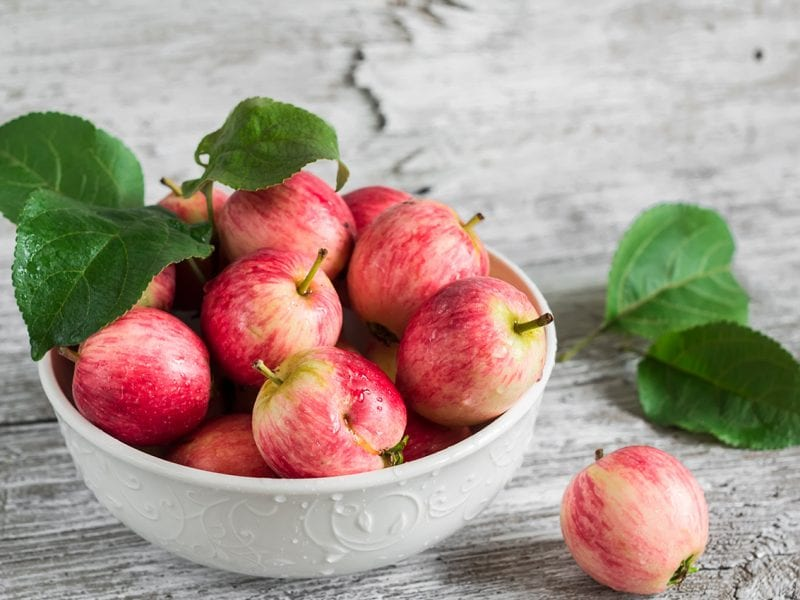elma: (560, 443, 712, 594), (397, 275, 547, 416), (61, 306, 212, 439), (346, 196, 488, 328), (198, 247, 345, 374)
